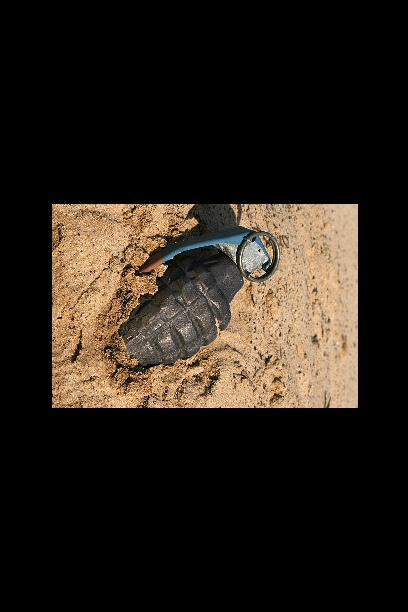e1: (118, 230, 281, 371)
